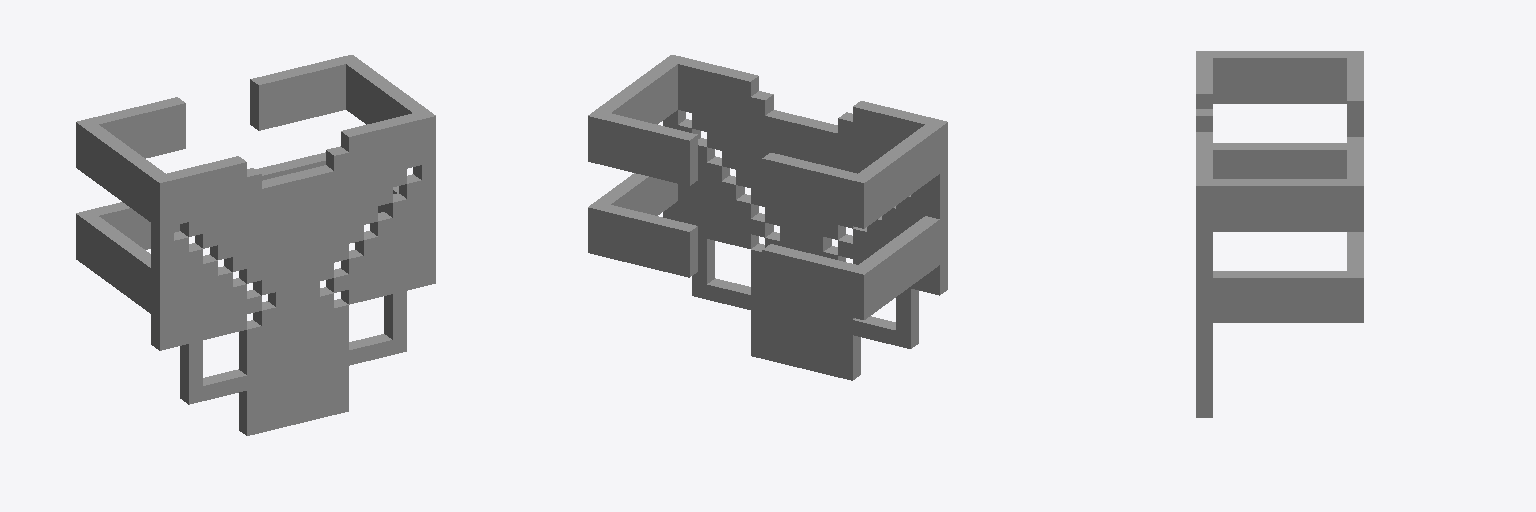
3 views of the same model, side by side, from view 1: azimuth 30°, elevation 25°; view 2: azimuth 150°, elevation 25°; view 3: azimuth 270°, elevation 25° (orthographic).
Visible parts, largest first — view 1: object 1; view 2: object 1; view 3: object 1.
Part boxes in pixels (x1,y1,x2,y2): object 1: (76,55,435,435); object 1: (588,55,947,380); object 1: (1196,51,1363,417).
Bounding box in the file's own units: 1.9 × 1.8 × 1.
Materials: 1 (1 with a texture image).